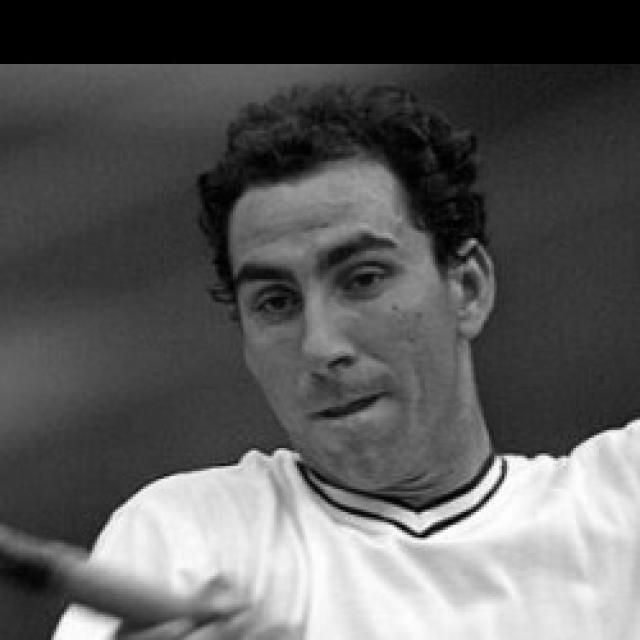real: (184, 121, 498, 492), (235, 264, 422, 317)
